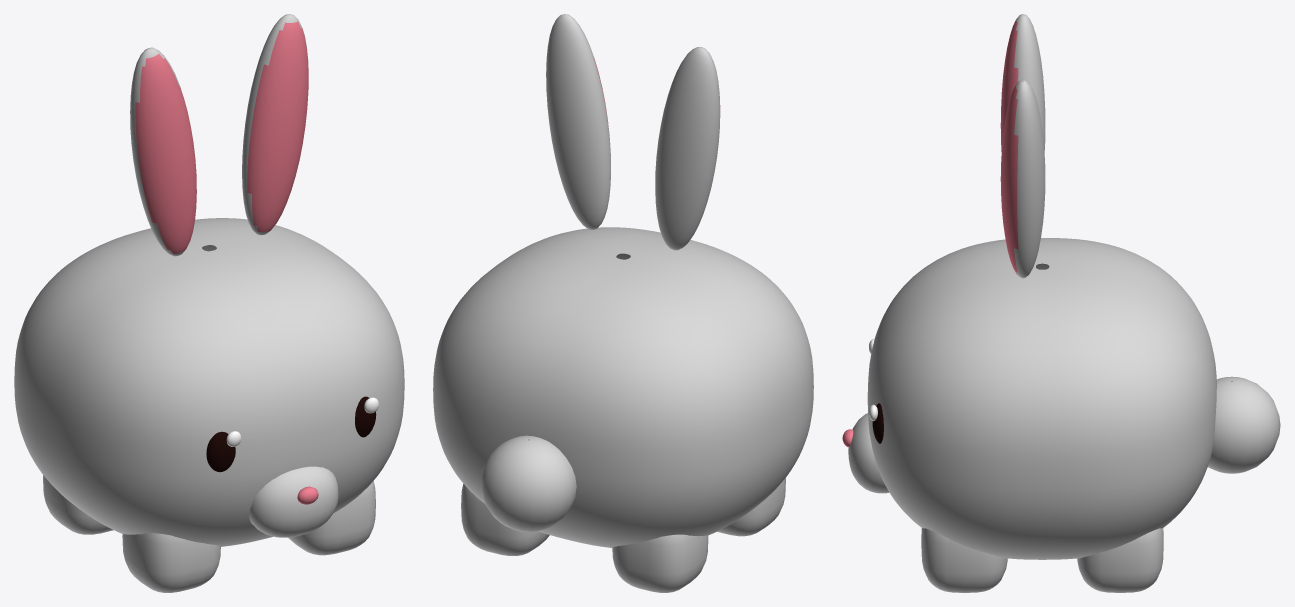
File: rabbit.fbx
3 views of the same model, side by side, from view 1: azimuth 30°, elevation 25°; view 2: azimuth 150°, elevation 25°; view 3: azimuth 270°, elevation 25° (orthographic). The views are drawn at different scales.
Parts seen in each view (by area): view 1: rabbit; view 2: rabbit; view 3: rabbit.
Part boxes in pixels (left/top/right/bottom): rabbit: left=14, top=14, right=404, bottom=592; rabbit: left=433, top=14, right=813, bottom=592; rabbit: left=842, top=14, right=1280, bottom=592.
Size of the model in its own units: 3.8 by 5.69 by 4.51.
